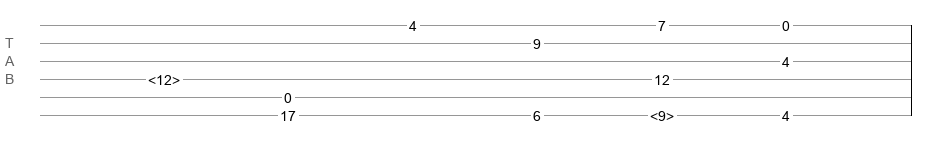0: (284, 90, 292, 100), (782, 18, 790, 28)
12: (654, 72, 670, 82)
17: (280, 108, 296, 118)
4: (409, 18, 417, 28), (782, 108, 790, 118), (782, 54, 790, 64)
6: (533, 108, 541, 118)
7: (658, 18, 666, 28)
9: (533, 36, 541, 46)
harmonic: (148, 72, 180, 82), (650, 108, 674, 118)
